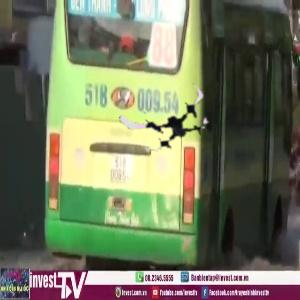drone: (131, 77, 218, 164)
